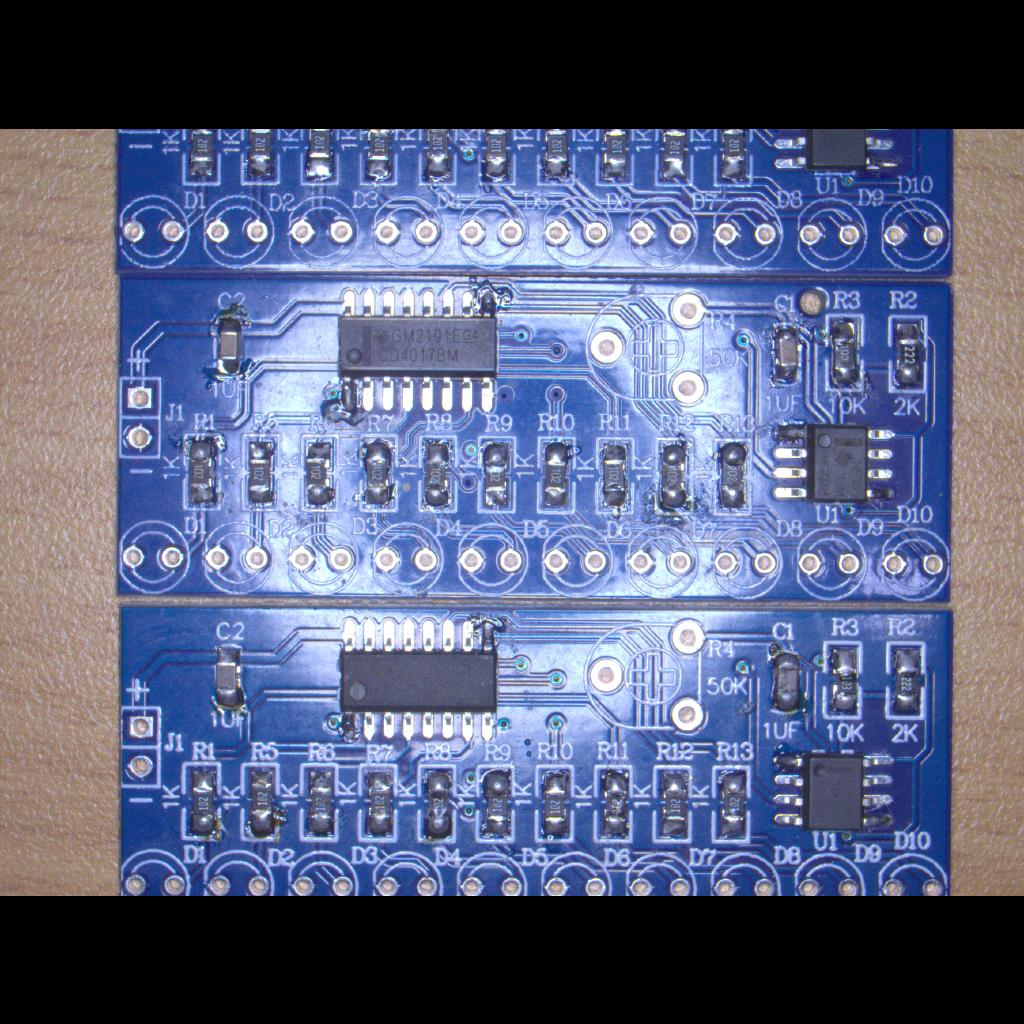OK: (334, 282, 518, 414), (329, 612, 505, 742), (770, 420, 918, 508), (763, 748, 903, 836), (769, 128, 909, 176), (884, 312, 934, 396), (822, 310, 870, 394), (884, 641, 932, 723), (592, 435, 640, 517), (416, 434, 464, 516), (414, 762, 460, 846), (179, 430, 227, 510), (531, 762, 577, 844), (356, 762, 402, 844), (178, 761, 224, 843), (472, 762, 516, 846), (652, 434, 696, 518), (240, 432, 286, 512), (823, 640, 867, 722), (590, 763, 634, 845), (298, 761, 342, 843), (238, 762, 282, 844), (354, 436, 400, 514), (538, 436, 582, 516), (652, 763, 696, 843), (710, 764, 752, 846), (712, 434, 754, 516), (478, 434, 520, 516), (300, 433, 342, 513), (210, 642, 250, 716), (768, 319, 810, 387), (594, 129, 640, 191), (712, 128, 758, 190), (208, 314, 250, 380), (476, 128, 522, 188), (654, 128, 698, 190), (236, 128, 282, 186), (296, 128, 342, 186), (416, 128, 462, 186), (176, 128, 222, 186), (536, 128, 580, 186), (356, 128, 400, 186)
